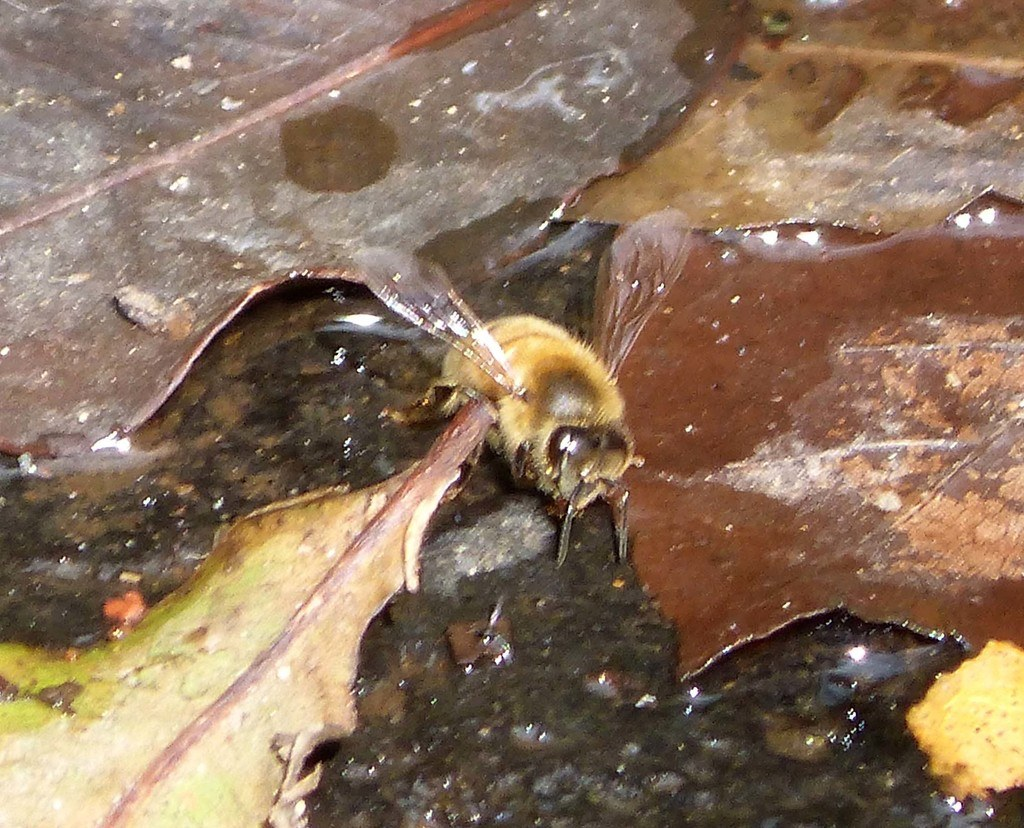bee: (358, 204, 686, 557)
